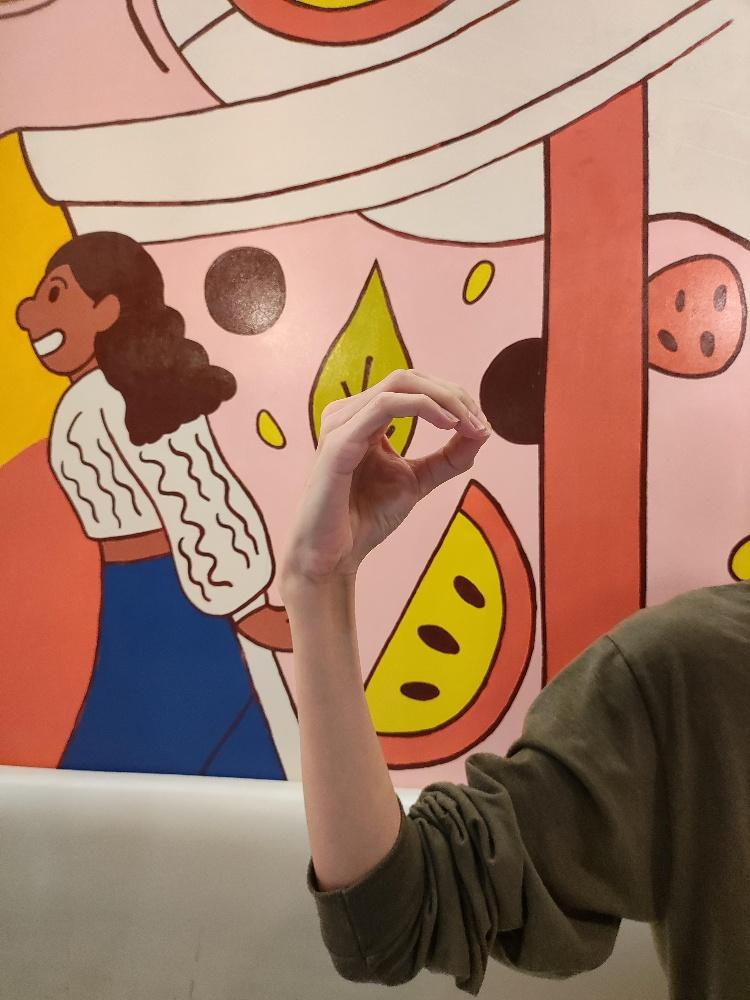o: (275, 362, 494, 590)
